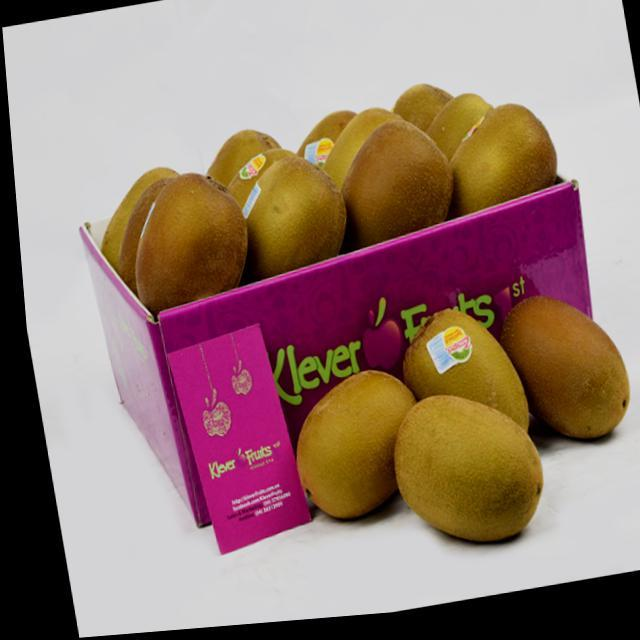kiwi: (376, 389, 545, 565), (272, 368, 422, 536), (112, 171, 256, 333), (495, 301, 630, 461), (221, 155, 353, 312), (396, 303, 523, 459), (327, 121, 459, 265), (430, 107, 564, 233), (84, 168, 192, 284)
